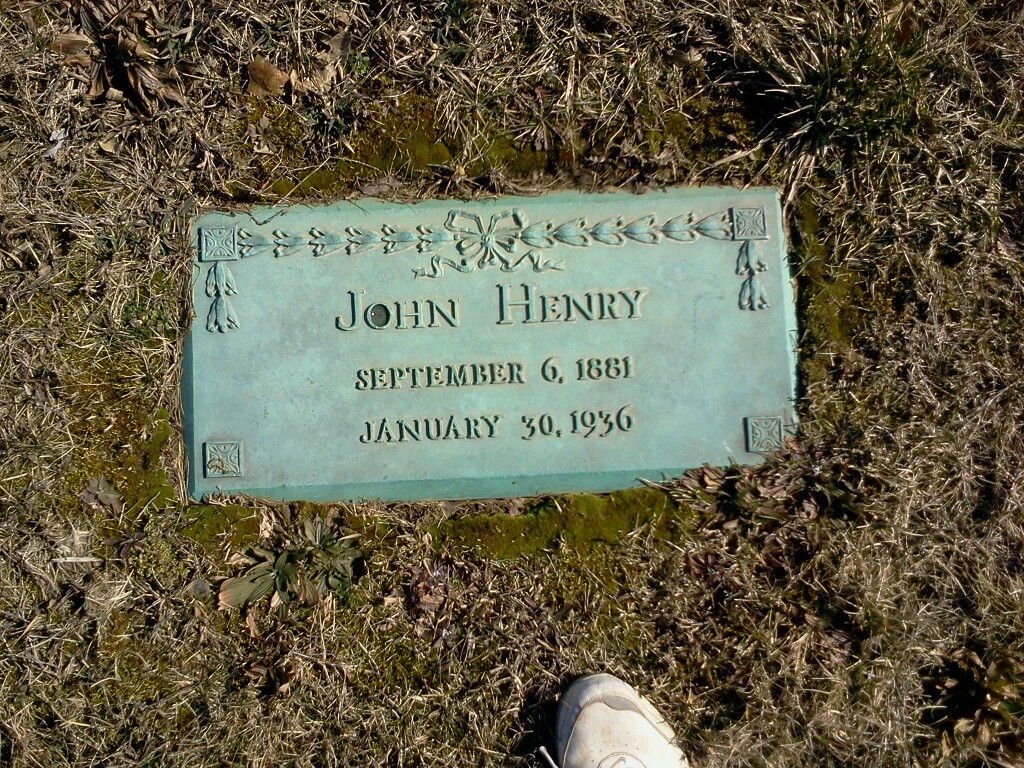flat: (179, 184, 802, 493)
